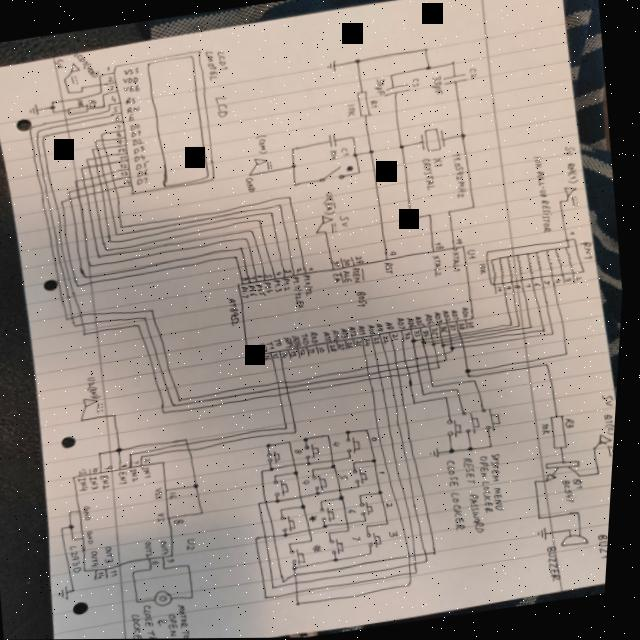capacitor: (383, 82, 412, 96), (443, 72, 469, 85), (328, 133, 341, 148)
crossover: (112, 177, 120, 183), (108, 160, 116, 166), (301, 589, 308, 595), (301, 580, 308, 586), (409, 364, 415, 370), (304, 494, 310, 500), (111, 169, 118, 174), (100, 181, 107, 186), (87, 191, 94, 196), (420, 368, 427, 373), (390, 361, 397, 366), (392, 373, 399, 378), (269, 533, 276, 538), (269, 499, 276, 504), (351, 521, 358, 526), (343, 487, 350, 492), (191, 447, 198, 452), (102, 137, 108, 142), (116, 185, 122, 190), (96, 162, 102, 167), (106, 179, 112, 184), (102, 188, 108, 193), (89, 163, 95, 168), (92, 175, 98, 180), (93, 182, 99, 187), (95, 190, 101, 195), (85, 185, 91, 190), (84, 176, 90, 181), (77, 186, 83, 191), (79, 193, 85, 198), (70, 196, 76, 201), (288, 379, 294, 384), (290, 390, 296, 395), (282, 392, 288, 397), (371, 376, 377, 381), (383, 375, 389, 380), (447, 351, 453, 356), (430, 361, 436, 366), (428, 354, 434, 359), (418, 356, 424, 361), (420, 363, 426, 368), (411, 371, 417, 376), (407, 358, 413, 363), (399, 366, 405, 371), (401, 373, 407, 378), (391, 368, 397, 373), (299, 572, 305, 577), (278, 533, 284, 538), (335, 458, 341, 463), (313, 527, 319, 532), (190, 441, 196, 446), (82, 312, 88, 317), (85, 321, 91, 326), (75, 314, 80, 320), (99, 81, 105, 86), (430, 551, 436, 556), (419, 553, 425, 558), (414, 553, 419, 559), (414, 562, 420, 567), (431, 366, 437, 371), (104, 145, 109, 150), (102, 162, 107, 167), (95, 155, 100, 160), (100, 154, 105, 159), (107, 152, 112, 157), (104, 172, 109, 177), (108, 187, 113, 192), (99, 173, 104, 178), (290, 384, 295, 389), (282, 385, 287, 390), (280, 380, 285, 385), (370, 365, 375, 370), (371, 372, 376, 377), (382, 369, 387, 374), (439, 353, 444, 358), (440, 359, 445, 364), (398, 360, 403, 365), (298, 461, 303, 466), (420, 561, 425, 566), (415, 570, 420, 575), (381, 363, 385, 367), (466, 344, 470, 348), (434, 336, 438, 340), (464, 340, 469, 343), (462, 332, 467, 335), (453, 342, 457, 345), (453, 339, 457, 342), (453, 336, 457, 339), (444, 338, 448, 341), (445, 341, 449, 344), (435, 339, 439, 342), (443, 335, 447, 338), (452, 334, 456, 337), (463, 335, 467, 338), (464, 337, 468, 340), (425, 337, 429, 340)
ground: (326, 58, 341, 73), (433, 446, 448, 460), (543, 526, 556, 542), (65, 585, 78, 600), (30, 103, 42, 116)
junction: (304, 502, 316, 510), (399, 143, 409, 150), (338, 556, 348, 563), (307, 436, 317, 443), (354, 57, 363, 64), (121, 446, 130, 453), (472, 445, 481, 452), (292, 162, 301, 169), (198, 482, 207, 489), (453, 447, 462, 454), (369, 148, 378, 155), (425, 64, 434, 71), (141, 597, 150, 604), (293, 181, 302, 188), (291, 145, 300, 152), (547, 361, 556, 368), (580, 509, 589, 516), (600, 470, 609, 477), (301, 600, 310, 607), (368, 426, 377, 433), (349, 428, 358, 435), (353, 150, 362, 157), (460, 132, 469, 139), (493, 442, 501, 449), (542, 514, 550, 521), (538, 478, 546, 485), (438, 548, 446, 555), (74, 522, 82, 529), (422, 46, 431, 52), (204, 509, 213, 515), (345, 494, 352, 501), (429, 212, 437, 218), (448, 208, 456, 214), (271, 442, 279, 448), (65, 524, 73, 530), (152, 307, 160, 313), (195, 593, 203, 599), (280, 497, 288, 503), (92, 145, 100, 151), (298, 470, 306, 476), (328, 523, 336, 529), (298, 565, 306, 571), (468, 368, 476, 374), (451, 60, 458, 66), (411, 215, 418, 221), (351, 134, 358, 140), (474, 204, 481, 210), (117, 412, 124, 418), (80, 165, 87, 171), (335, 463, 342, 469), (383, 489, 390, 495), (99, 253, 106, 259), (376, 457, 383, 463), (271, 594, 277, 600), (241, 245, 247, 251), (574, 527, 580, 533), (265, 468, 272, 473), (84, 416, 91, 421), (274, 466, 281, 471), (51, 104, 58, 109), (371, 523, 378, 528), (277, 585, 284, 590), (352, 455, 359, 460), (321, 490, 328, 495), (288, 425, 295, 430), (188, 436, 195, 441), (117, 231, 124, 236), (86, 156, 93, 161), (37, 128, 44, 133), (358, 169, 365, 174), (271, 210, 278, 215), (236, 255, 243, 260), (289, 532, 296, 537), (262, 500, 269, 505), (597, 446, 604, 451), (315, 467, 322, 472), (447, 357, 454, 362), (103, 450, 109, 455), (414, 582, 420, 587), (375, 551, 381, 556), (193, 562, 199, 567), (390, 73, 396, 78), (122, 223, 128, 228), (138, 569, 144, 574), (292, 439, 298, 444), (448, 395, 454, 400), (155, 566, 161, 571), (520, 323, 526, 328), (68, 189, 74, 194), (288, 578, 294, 583), (294, 541, 300, 546), (285, 507, 291, 512), (331, 433, 337, 438), (357, 460, 363, 465), (362, 483, 368, 488), (370, 518, 376, 523), (391, 521, 397, 526), (352, 528, 358, 533), (325, 498, 331, 503), (312, 460, 318, 465), (298, 429, 304, 434), (133, 451, 139, 456), (79, 282, 85, 287), (87, 274, 93, 279), (92, 262, 98, 267), (108, 247, 114, 252), (111, 238, 117, 243), (100, 131, 106, 136), (95, 138, 101, 143), (76, 178, 82, 183), (62, 198, 68, 203), (30, 124, 36, 129), (44, 134, 50, 139), (81, 88, 86, 94), (166, 409, 172, 414), (140, 323, 146, 328), (317, 229, 323, 234), (289, 195, 295, 200), (280, 202, 286, 207), (260, 218, 266, 223), (169, 565, 175, 570), (77, 536, 83, 541), (74, 509, 80, 514), (78, 587, 84, 592), (431, 559, 437, 564), (420, 570, 426, 575), (251, 171, 257, 176), (568, 351, 574, 356), (554, 332, 560, 337), (545, 328, 551, 333), (532, 324, 538, 329), (512, 322, 518, 327), (567, 199, 573, 204), (459, 387, 465, 392), (476, 378, 482, 383), (471, 374, 477, 379), (426, 391, 432, 396), (435, 383, 441, 388), (425, 339, 431, 344), (415, 338, 421, 343), (453, 345, 459, 350), (435, 341, 441, 346), (176, 403, 183, 407), (87, 330, 92, 335), (261, 535, 266, 540), (316, 538, 321, 543), (279, 473, 284, 478), (364, 493, 369, 498), (334, 530, 339, 535), (77, 322, 82, 327), (69, 316, 74, 321), (68, 89, 73, 94), (63, 76, 68, 81), (108, 107, 113, 112), (182, 397, 187, 402), (147, 315, 152, 320), (327, 229, 332, 234), (252, 228, 257, 233), (247, 236, 252, 241), (445, 343, 450, 348), (99, 73, 104, 77), (100, 89, 105, 93), (103, 104, 108, 108), (561, 199, 566, 203), (441, 365, 446, 369), (146, 454, 150, 458), (53, 109, 57, 113), (52, 100, 56, 104), (82, 84, 86, 88), (103, 92, 107, 96), (109, 103, 113, 107), (418, 401, 422, 405)
resistor: (553, 414, 577, 450), (356, 90, 375, 118), (68, 103, 92, 115)
switch: (485, 406, 508, 432), (466, 409, 488, 435), (320, 165, 349, 183), (450, 417, 469, 439), (278, 477, 297, 497), (286, 513, 305, 532), (317, 472, 335, 492), (296, 547, 314, 566), (357, 466, 375, 485), (325, 505, 343, 523), (350, 435, 367, 454), (309, 441, 326, 459), (336, 537, 352, 556), (373, 531, 390, 548), (364, 499, 381, 516), (271, 449, 288, 465)
terminal: (603, 432, 619, 446), (87, 396, 105, 408), (565, 185, 581, 197), (323, 213, 338, 224), (255, 156, 271, 166), (71, 61, 82, 72)
text: (464, 454, 497, 535), (530, 154, 561, 233), (448, 458, 477, 531), (481, 454, 504, 514), (492, 452, 515, 511), (451, 151, 472, 198), (72, 49, 103, 80), (148, 602, 170, 639), (551, 544, 571, 582), (421, 156, 440, 191), (293, 275, 312, 310), (182, 603, 200, 639), (204, 49, 222, 81), (74, 543, 91, 572), (231, 296, 246, 327), (322, 191, 341, 215), (90, 375, 108, 400), (566, 478, 583, 504), (137, 612, 153, 639), (214, 95, 232, 119), (429, 74, 447, 96), (567, 162, 583, 184), (602, 532, 615, 559), (583, 240, 599, 261), (433, 254, 447, 278), (256, 133, 272, 154), (174, 613, 188, 637), (305, 274, 319, 297), (217, 49, 231, 71), (608, 412, 621, 435), (453, 251, 467, 272), (374, 77, 389, 96), (354, 266, 370, 283), (109, 544, 123, 563), (359, 289, 373, 308), (246, 176, 260, 193), (150, 540, 163, 558), (605, 393, 620, 408), (164, 539, 177, 556), (386, 260, 400, 275), (83, 475, 96, 491), (106, 472, 118, 489), (96, 549, 108, 566), (335, 270, 349, 284), (122, 469, 135, 484), (347, 102, 360, 117), (94, 474, 106, 490), (89, 504, 100, 521), (192, 536, 205, 550), (124, 83, 142, 93), (345, 268, 357, 283), (284, 276, 296, 291), (258, 282, 270, 297), (92, 528, 103, 544), (545, 422, 558, 435), (250, 283, 263, 296), (294, 334, 307, 347), (427, 312, 440, 325), (147, 464, 159, 478), (433, 156, 447, 168), (275, 278, 287, 292), (135, 467, 146, 482), (123, 66, 141, 75), (127, 104, 143, 114), (566, 145, 579, 157), (342, 214, 354, 227), (577, 478, 590, 490), (266, 280, 278, 293), (418, 314, 430, 327), (334, 328, 346, 341), (243, 285, 254, 299), (123, 75, 140, 84), (138, 160, 153, 170), (569, 417, 581, 429), (330, 148, 341, 161), (160, 486, 171, 499), (481, 262, 492, 275), (313, 331, 324, 344), (464, 305, 475, 318), (437, 310, 448, 323), (400, 316, 411, 329), (351, 325, 362, 338), (133, 137, 148, 146), (54, 58, 66, 69), (469, 248, 481, 259), (287, 336, 298, 348), (261, 342, 273, 353), (454, 308, 465, 320), (410, 316, 421, 328), (139, 168, 152, 178), (136, 152, 149, 162), (135, 144, 148, 154), (327, 330, 337, 343), (305, 332, 315, 345), (445, 310, 455, 323), (411, 77, 422, 88), (163, 511, 174, 522), (179, 517, 192, 526), (138, 176, 151, 185), (88, 98, 99, 108), (319, 543, 330, 553), (388, 320, 399, 330), (361, 324, 371, 335), (456, 237, 468, 246), (164, 618, 176, 627), (314, 513, 326, 522), (126, 95, 138, 104), (357, 255, 369, 264), (344, 327, 353, 339), (391, 248, 402, 257), (437, 241, 448, 250), (343, 146, 352, 157), (370, 99, 381, 108), (174, 490, 185, 499), (371, 324, 380, 335), (132, 129, 144, 137), (277, 338, 287, 347), (270, 340, 280, 349), (254, 344, 264, 353), (379, 322, 388, 332), (345, 472, 356, 480), (394, 530, 406, 537), (298, 447, 310, 454), (131, 123, 143, 130), (117, 568, 126, 577), (103, 570, 112, 579), (77, 98, 86, 107), (346, 257, 355, 266), (444, 324, 453, 333), (333, 343, 342, 352), (109, 463, 120, 470), (353, 507, 364, 514), (358, 535, 369, 542), (120, 162, 131, 169), (129, 113, 137, 122), (470, 321, 479, 329), (435, 327, 443, 336), (426, 329, 435, 337), (386, 335, 394, 344), (377, 336, 385, 345), (368, 337, 376, 346), (350, 340, 359, 348), (307, 478, 317, 485), (122, 170, 132, 177), (112, 105, 122, 112), (119, 146, 129, 153), (335, 260, 345, 267), (409, 330, 416, 340), (462, 322, 470, 330), (453, 323, 461, 331), (322, 345, 330, 353), (303, 348, 311, 356), (149, 456, 158, 463), (125, 178, 134, 185), (97, 466, 106, 473), (338, 440, 347, 447), (108, 84, 117, 91), (112, 93, 119, 102), (285, 351, 294, 358), (268, 353, 277, 360), (391, 502, 401, 508), (547, 279, 555, 286), (571, 230, 579, 237), (86, 467, 94, 474), (121, 154, 129, 161), (108, 75, 116, 82), (117, 123, 125, 130), (500, 285, 507, 293), (418, 329, 426, 336), (396, 333, 404, 340), (360, 339, 367, 347), (343, 342, 350, 350), (174, 557, 183, 563), (158, 559, 167, 565), (116, 113, 123, 120), (117, 131, 124, 138), (119, 138, 126, 145), (299, 266, 306, 273), (295, 350, 302, 357), (277, 352, 284, 359), (260, 355, 267, 362), (376, 436, 384, 442), (579, 276, 587, 282), (268, 272, 276, 278), (312, 347, 320, 353), (537, 282, 546, 287), (517, 284, 526, 289), (107, 65, 113, 72), (508, 285, 516, 290), (127, 462, 135, 467), (558, 279, 566, 284), (569, 277, 576, 282), (311, 266, 318, 271), (528, 283, 535, 288), (139, 459, 146, 464), (385, 470, 392, 475), (246, 276, 253, 281), (253, 274, 260, 279), (260, 273, 267, 278), (279, 271, 286, 276), (290, 268, 296, 273)
transistor: (547, 457, 589, 483)
